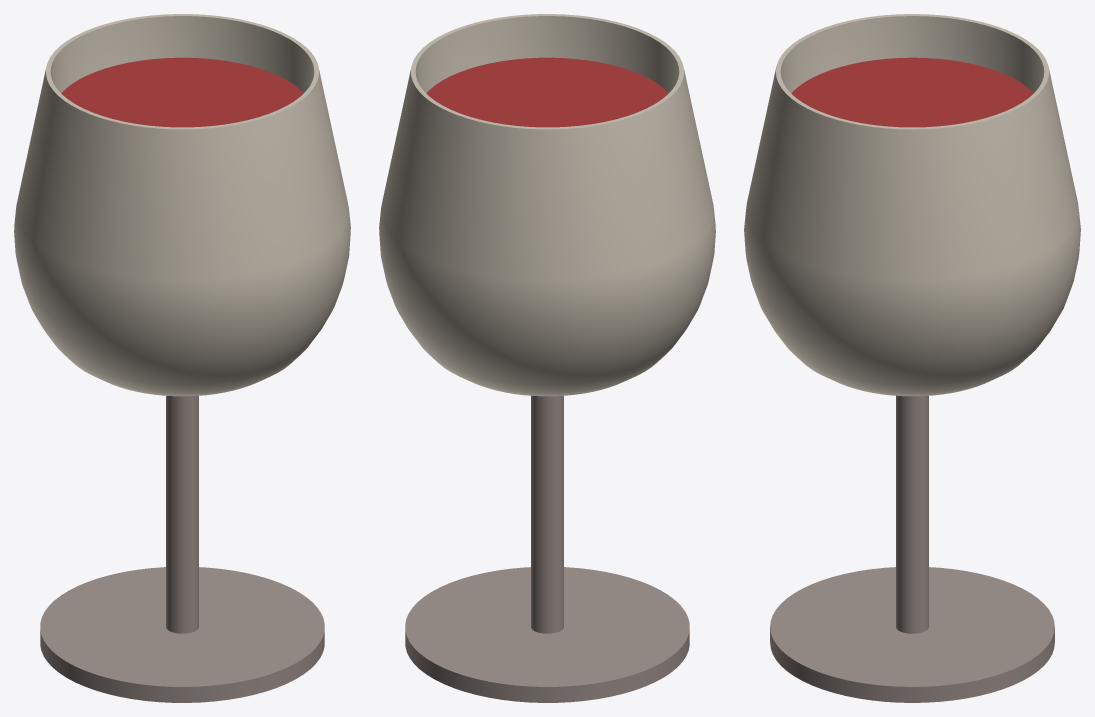
Rendered from wineglass.fbx.
3 renders of one model, left to right at view 1: azimuth 30°, elevation 25°; view 2: azimuth 150°, elevation 25°; view 3: azimuth 270°, elevation 25°, orthographic.
Parts seen in each view (by area): view 1: WineGlass; view 2: WineGlass; view 3: WineGlass.
Part boxes in pixels (x1,y1,x2,y2): WineGlass: (14, 14, 350, 702); WineGlass: (379, 14, 715, 702); WineGlass: (744, 14, 1080, 702).
Bounding box in the file's own units: 298 × 557 × 298.
